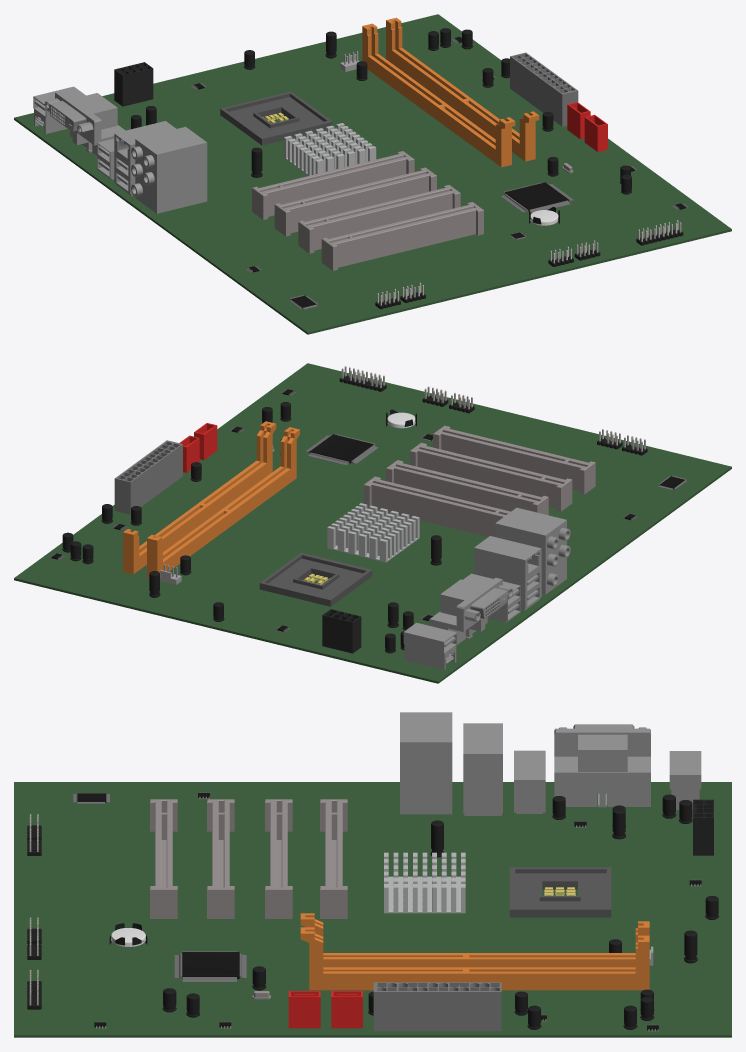
The model's file is MotherboardPGA479.fbx.
3 views of the same model, one above another, from view 1: azimuth 30°, elevation 25°; view 2: azimuth 150°, elevation 25°; view 3: azimuth 270°, elevation 25° (orthographic). The views are drawn at different scales.
Parts seen in each view (by area): view 1: Plane, PCI.003, SOUND, RAM, RAM.001, PCI.001, PCI.002, PCI.004, HeatSink.001, POWER, DISPLAY, CPU (+8 smaller); view 2: Plane, RAM, PCI.004, RAM.001, PCI.002, PCI.003, HeatSink.001, PCI.001, USB30, POWER, DISPLAY, SOUND (+8 smaller); view 3: Plane, RAM.001, DISPLAY, POWER, SOUND, RAM, HeatSink.001, USB30, CPU, PCI.004, PCI.001, PCI.002 (+8 smaller).
Part boxes in pixels (x1,y1,x2,y2): Plane: [14, 14, 731, 334]; PCI.003: [321, 202, 483, 270]; SOUND: [135, 126, 207, 213]; RAM: [362, 23, 515, 167]; RAM.001: [386, 17, 539, 161]; PCI.001: [274, 167, 436, 236]; PCI.002: [298, 185, 460, 253]; PCI.004: [252, 151, 414, 219]; HeatSink.001: [284, 123, 376, 175]; POWER: [510, 52, 578, 126]; DISPLAY: [44, 91, 125, 155]; CPU: [220, 91, 332, 145]; Plane: [14, 363, 731, 683]; RAM: [147, 427, 299, 577]; PCI.004: [363, 476, 510, 536]; RAM.001: [123, 421, 276, 574]; PCI.002: [409, 442, 572, 511]; PCI.003: [433, 425, 595, 494]; HeatSink.001: [327, 503, 419, 562]; PCI.001: [386, 460, 548, 515]; USB30: [474, 536, 541, 610]; POWER: [114, 440, 182, 514]; DISPLAY: [429, 577, 513, 645]; SOUND: [495, 507, 566, 594]; Plane: [14, 782, 731, 1037]; RAM.001: [300, 927, 649, 990]; DISPLAY: [554, 724, 650, 807]; POWER: [373, 982, 501, 1031]; SOUND: [400, 712, 452, 814]; RAM: [300, 913, 649, 967]; HeatSink.001: [384, 852, 465, 913]; USB30: [463, 723, 502, 815]; CPU: [509, 867, 611, 917]; PCI.004: [320, 799, 347, 918]; PCI.001: [265, 799, 292, 918]; PCI.002: [207, 799, 234, 918].
Bounding box in the file's own units: 760 × 107 × 901.
